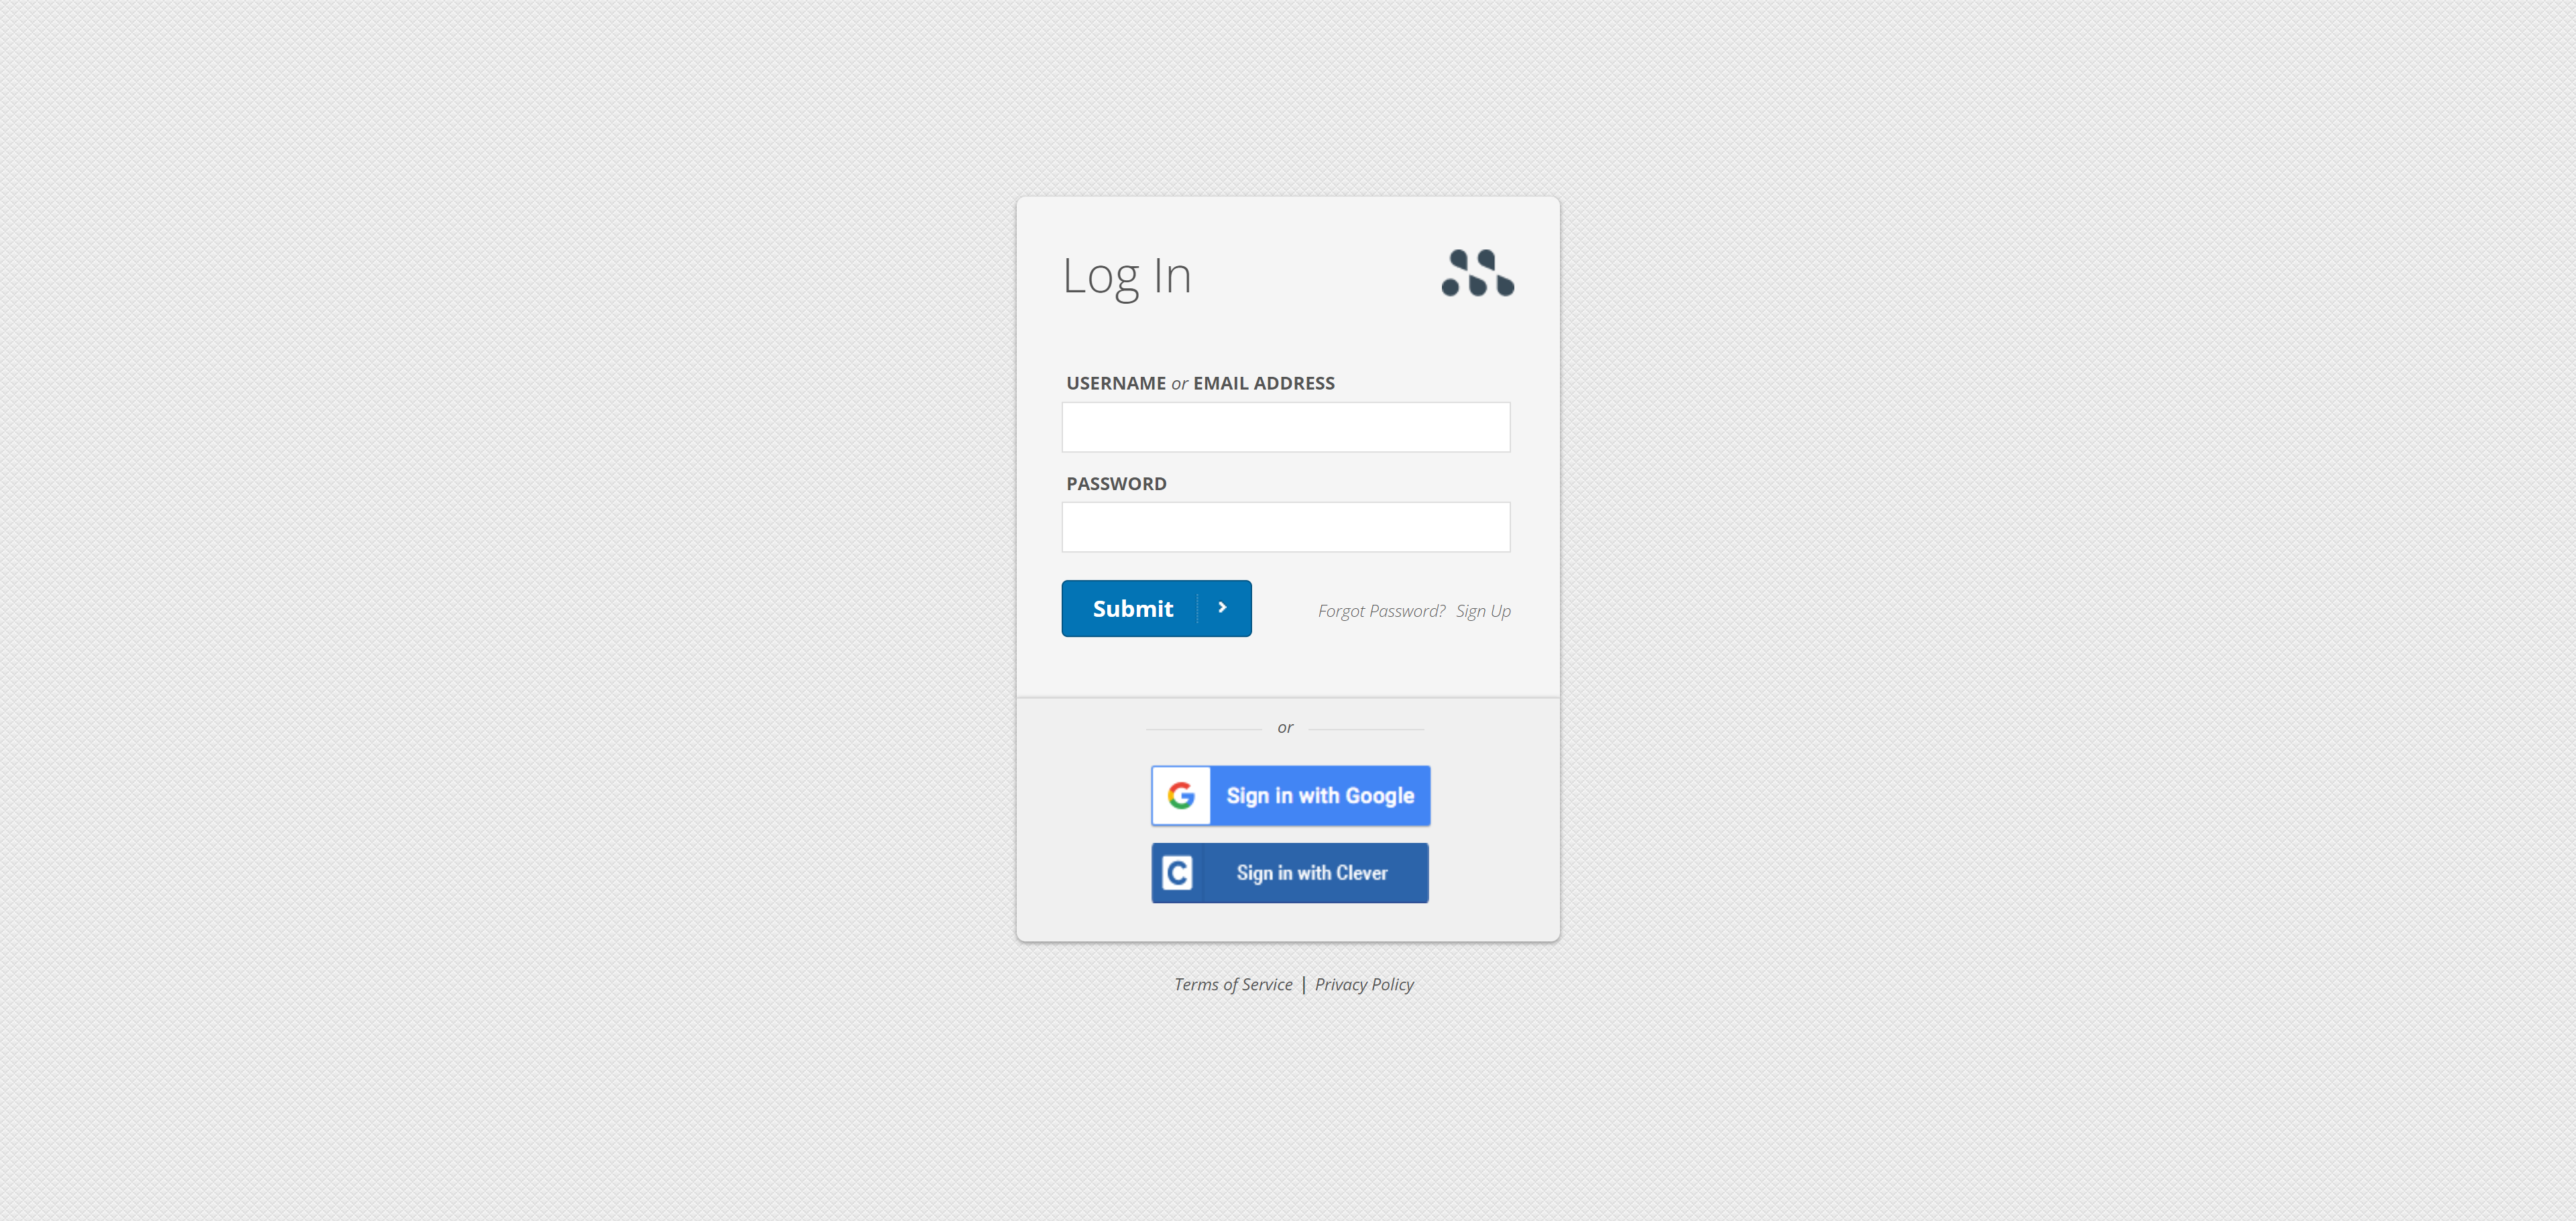login_button: (1063, 580, 1252, 638)
login_form: (1045, 368, 1526, 647)
